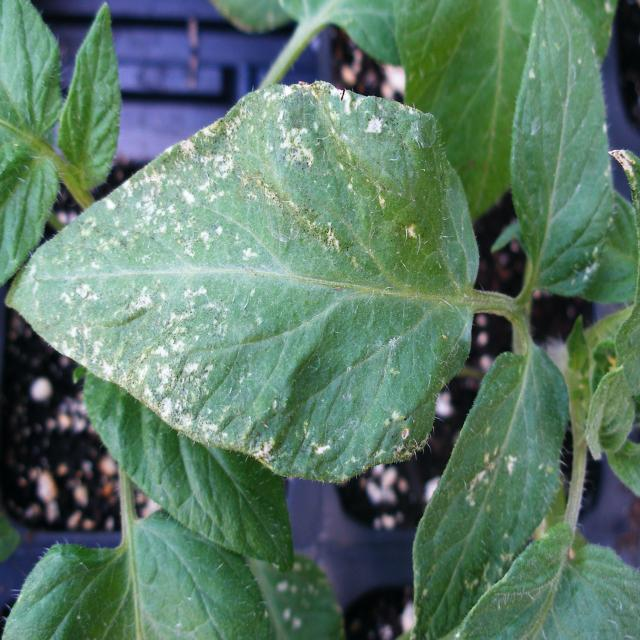Thrip-Group-: (63, 267, 265, 386), (167, 97, 275, 196)
